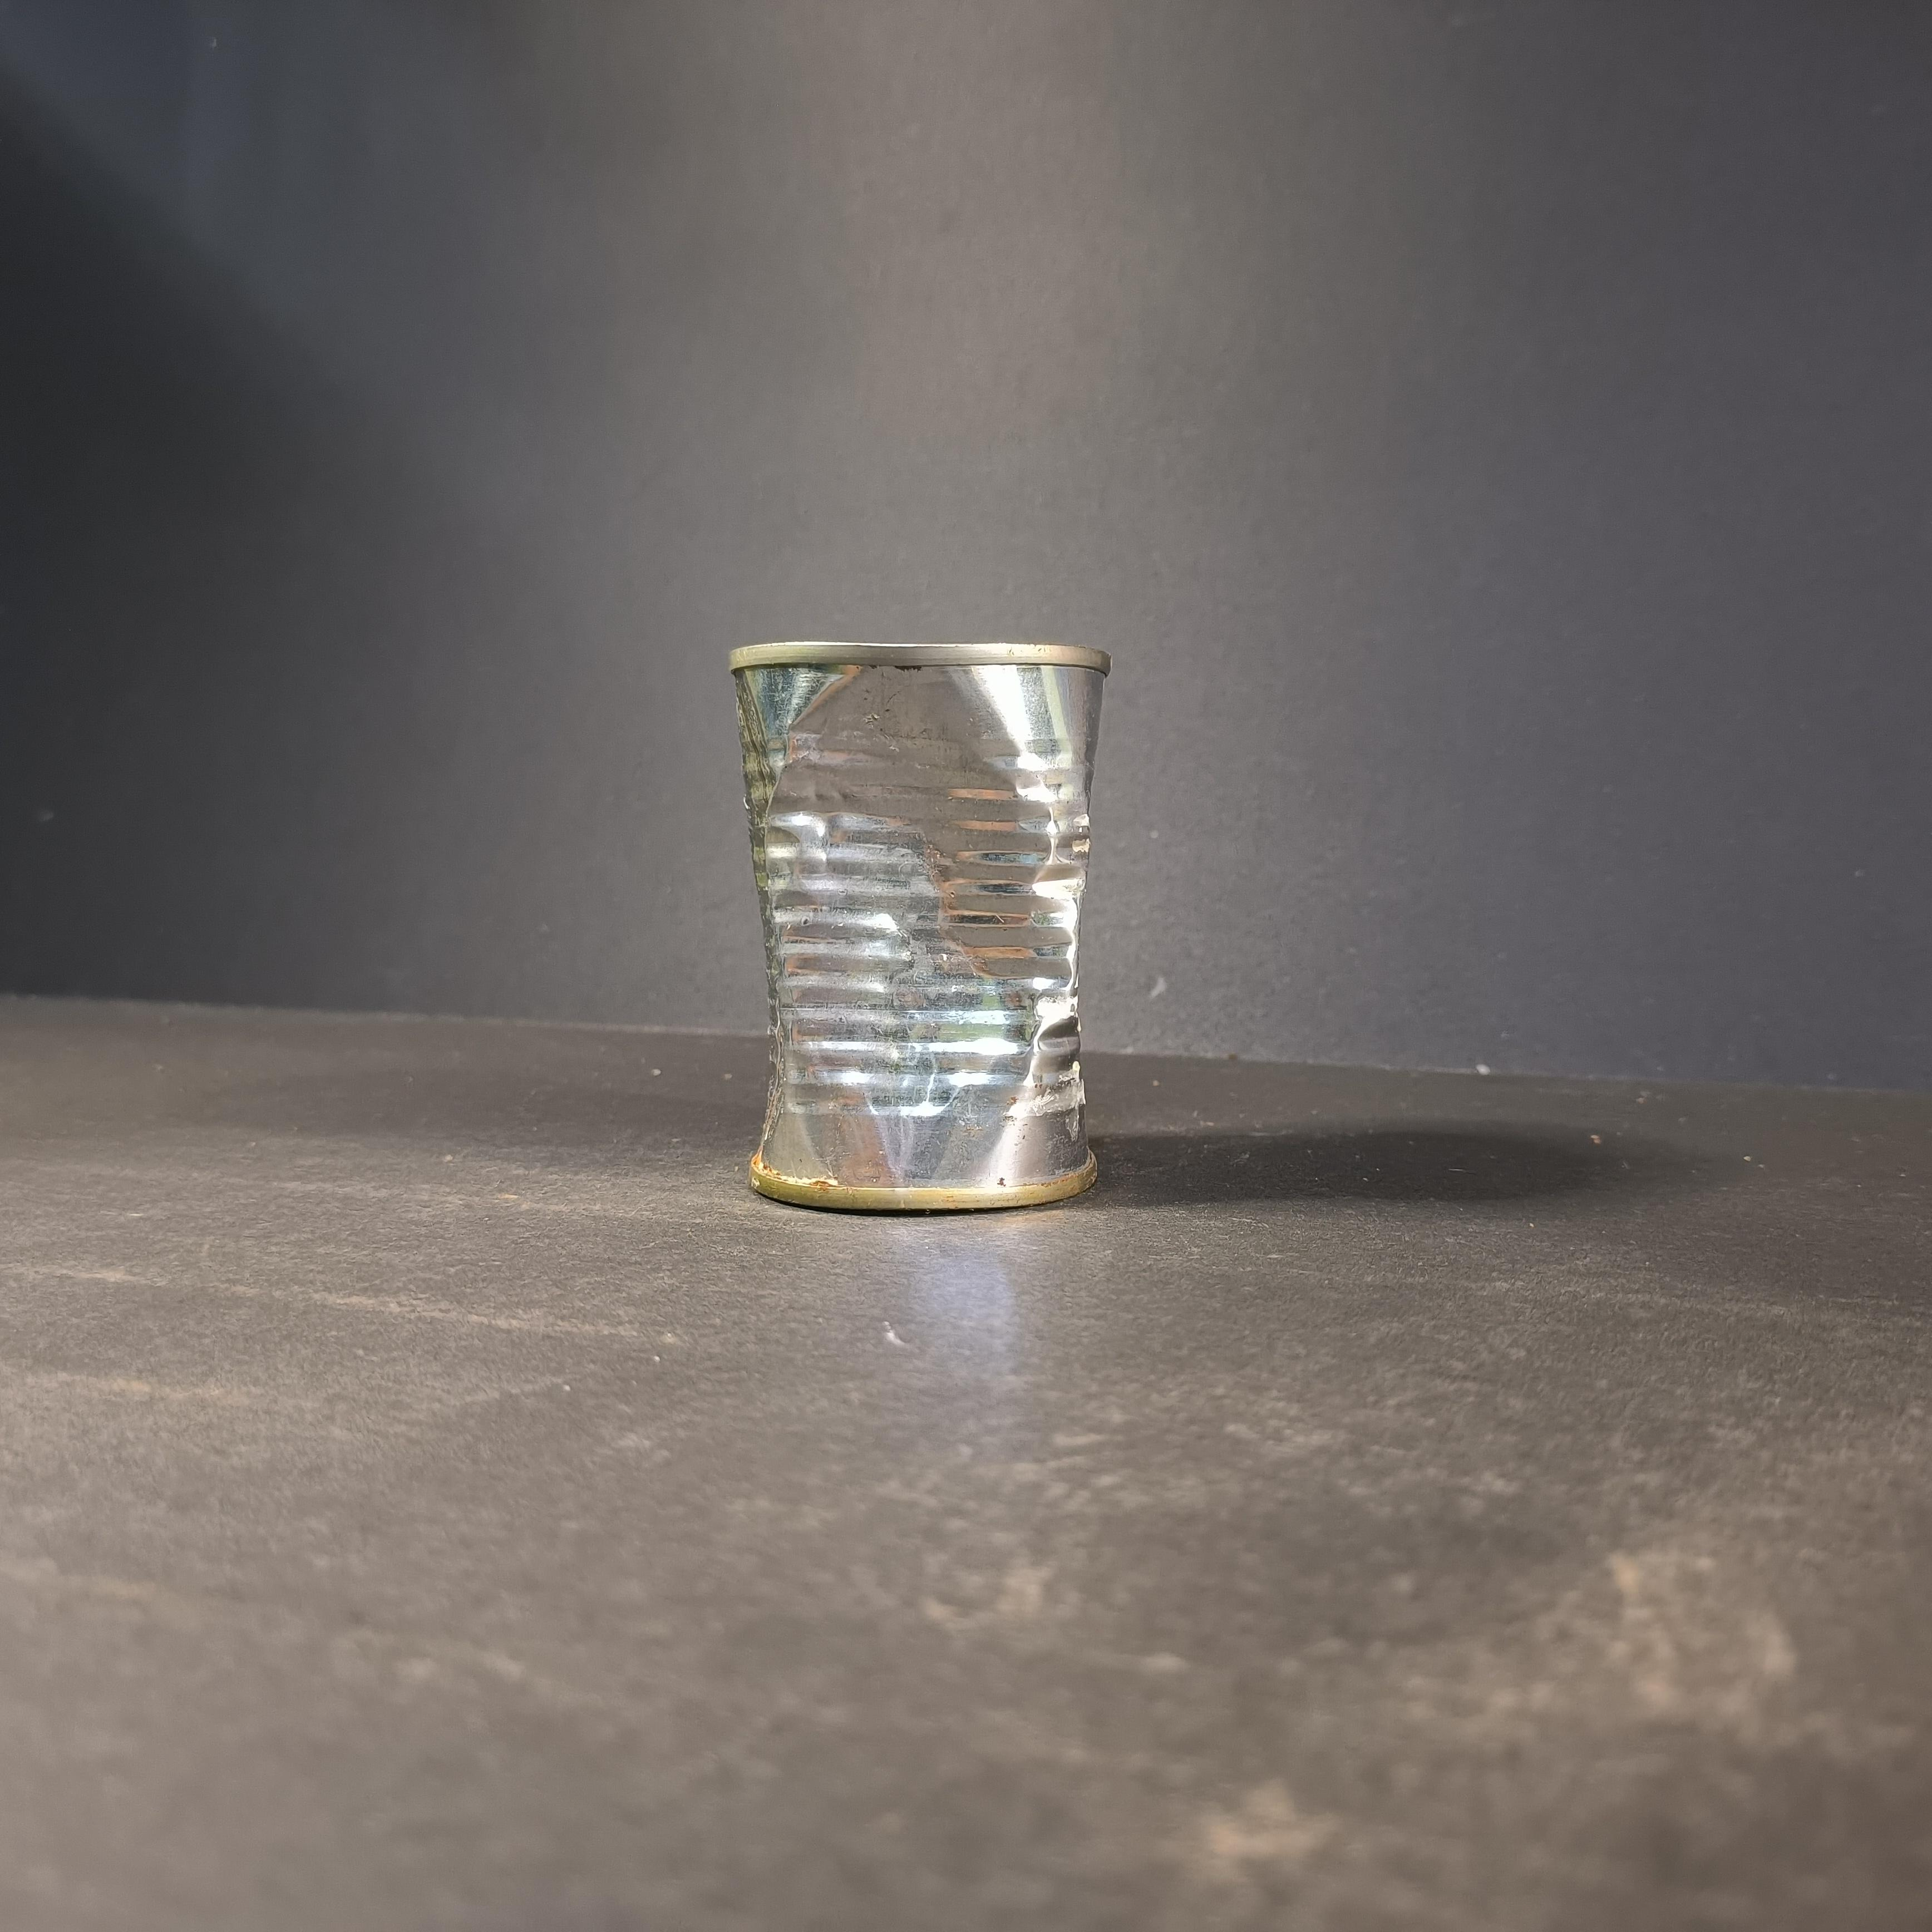Major Defect: (731, 640, 1113, 1212)
